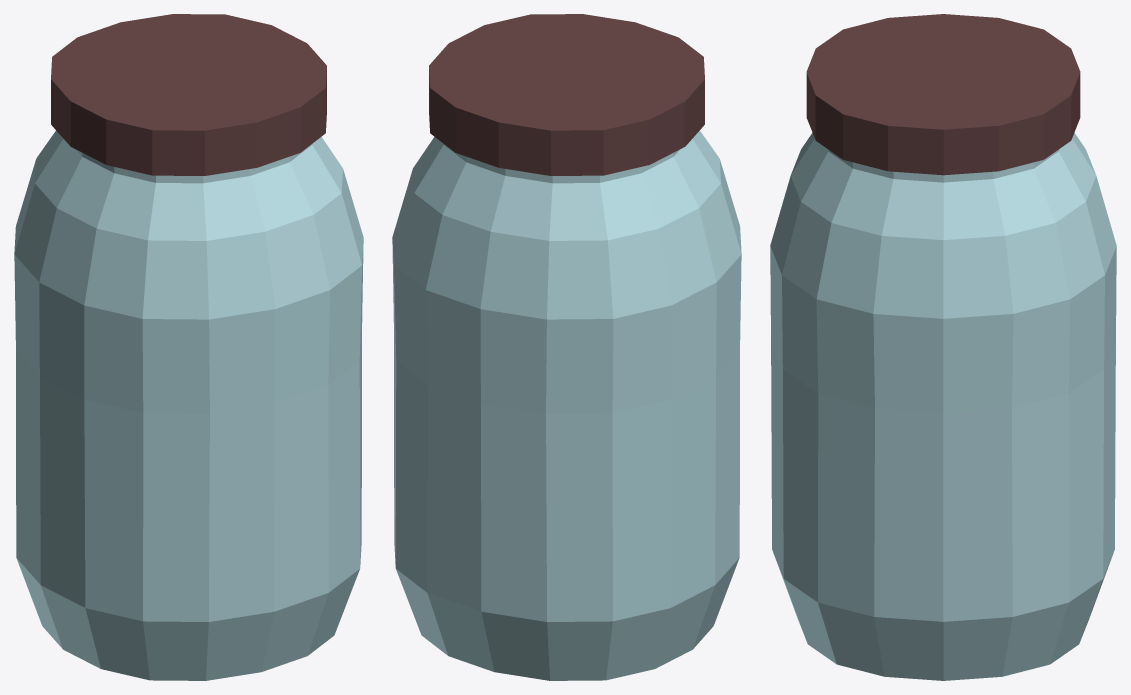
Rendered from Gunpowder.glb.
3 renders of one model, left to right at view 1: azimuth 30°, elevation 25°; view 2: azimuth 150°, elevation 25°; view 3: azimuth 270°, elevation 25°, orthographic.
Parts seen in each view (by area): view 1: MasonJar, MasonJarTop; view 2: MasonJar, MasonJarTop; view 3: MasonJar, MasonJarTop.
Part boxes in pixels (x1,y1,x2,y2): MasonJar: (14, 130, 363, 680); MasonJarTop: (51, 14, 326, 175); MasonJar: (392, 130, 741, 680); MasonJarTop: (429, 14, 704, 175); MasonJar: (770, 133, 1116, 680); MasonJarTop: (806, 14, 1080, 175).
Size of the model in its own units: 1.5 by 2.62 by 1.5.
